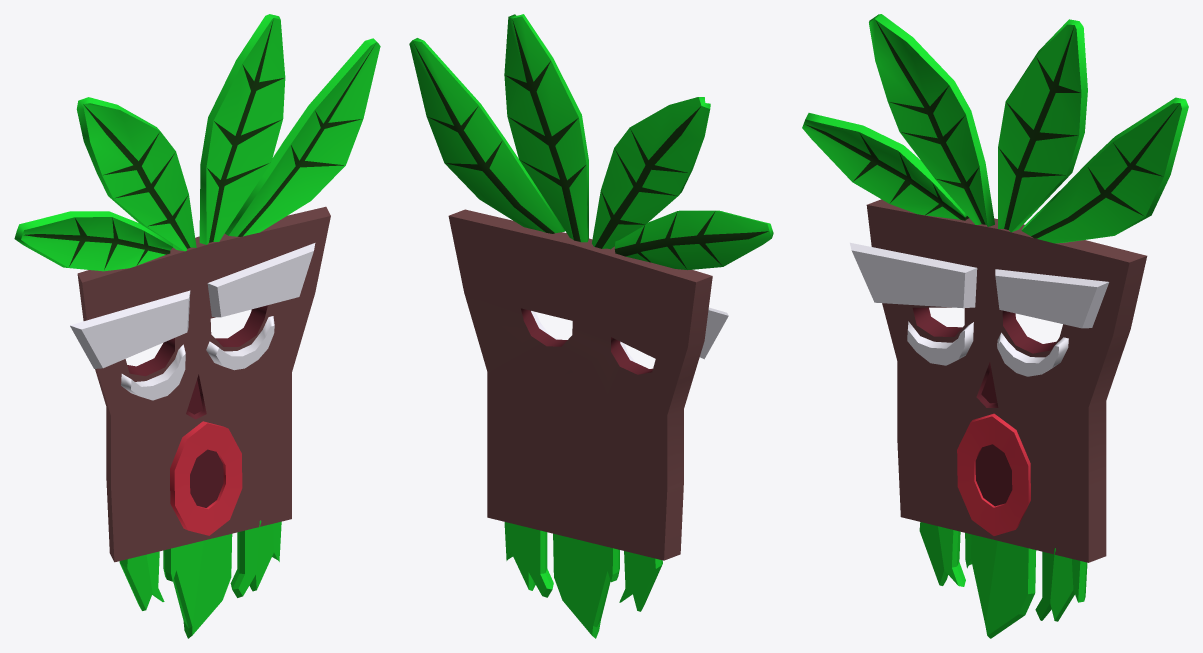
File: Voodoo.fbx
3 renders of one model, left to right at view 1: azimuth 30°, elevation 25°; view 2: azimuth 150°, elevation 25°; view 3: azimuth 330°, elevation 25°, orthographic. The views are drawn at different scales.
Visible parts, largest first — view 1: Voodoo; view 2: Voodoo; view 3: Voodoo.
Boxes of the visible parts, left/top/right/bottom form: Voodoo: left=14, top=14, right=380, bottom=638; Voodoo: left=409, top=14, right=773, bottom=638; Voodoo: left=802, top=14, right=1188, bottom=638.
Size of the model in its own units: 0.9392 by 1.49 by 0.0816.
